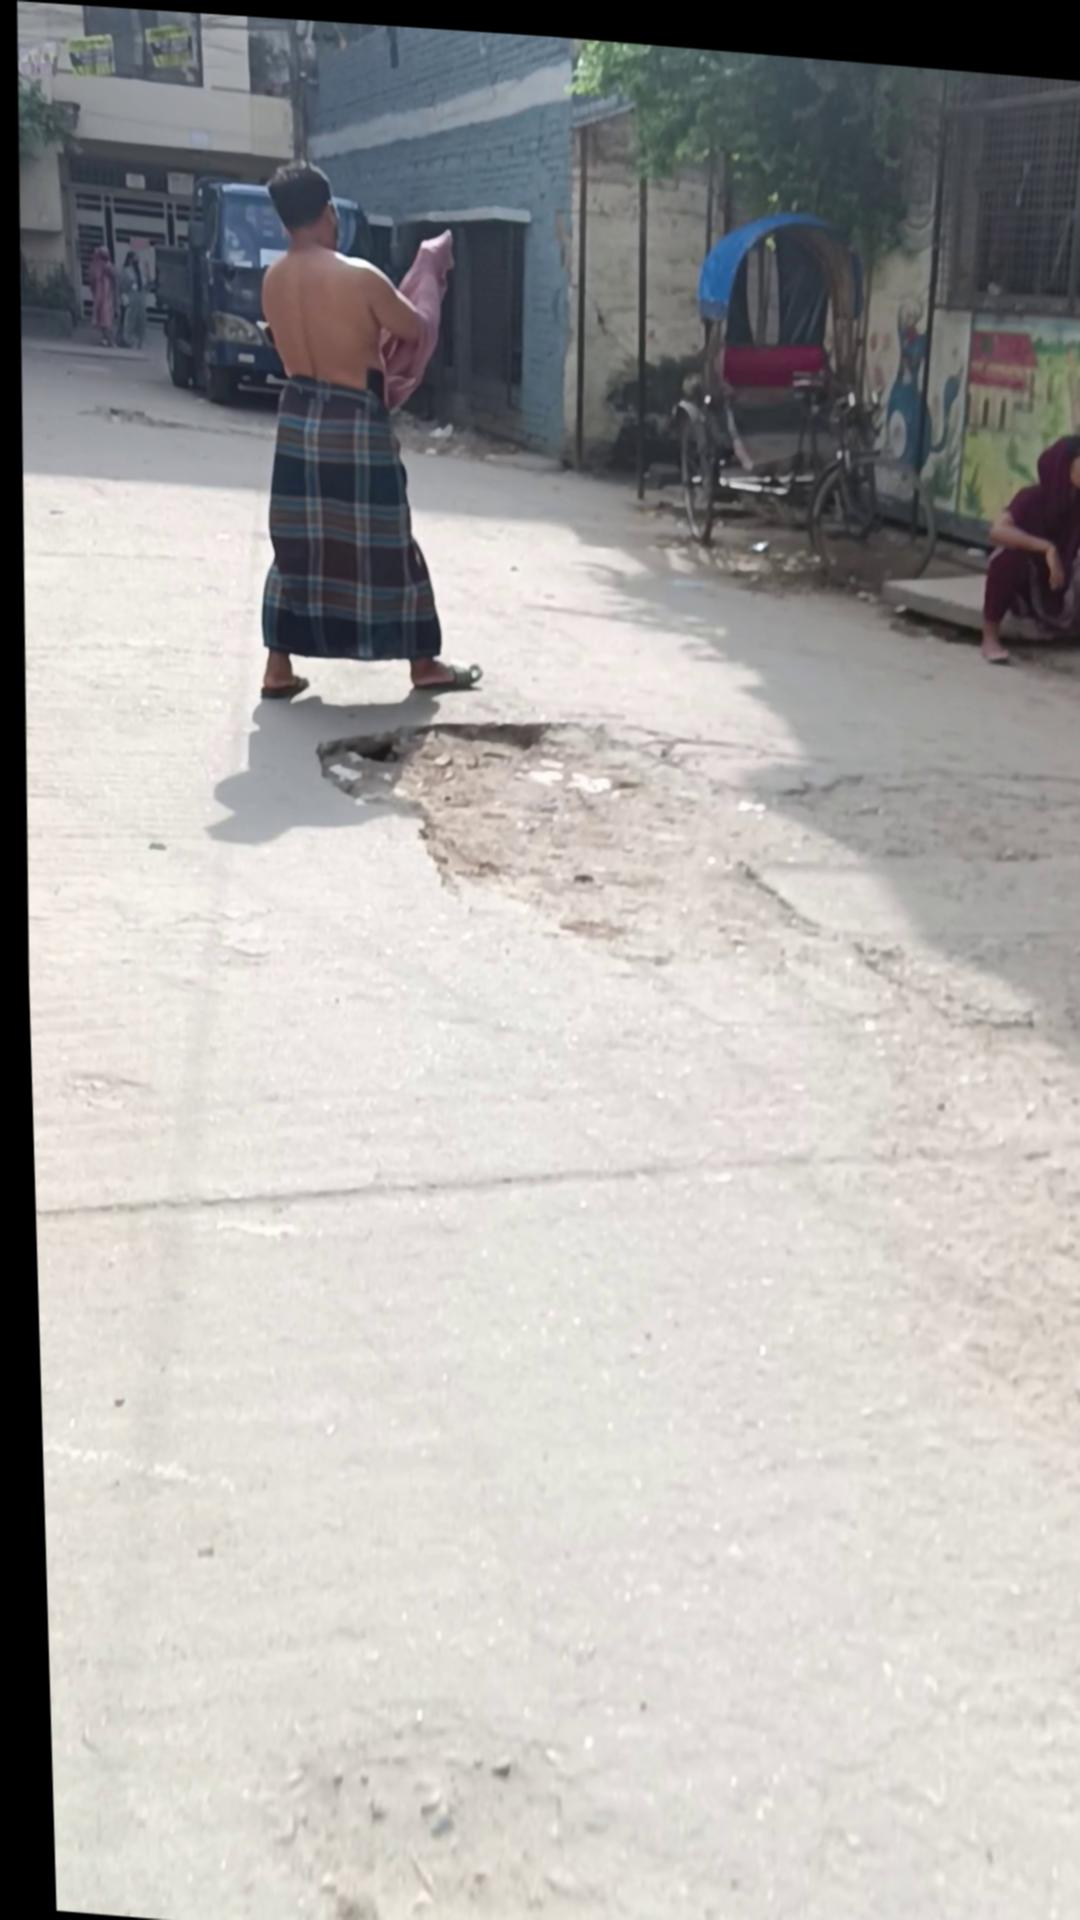Broken-road: (8, 335, 1080, 1920)
Crosswalk: (874, 546, 987, 620)
Muddy road: (241, 154, 487, 711), (968, 410, 1080, 657), (82, 243, 118, 345), (112, 248, 145, 347)
Pothole: (647, 157, 952, 587)
Traffic-sign: (146, 169, 380, 413)
